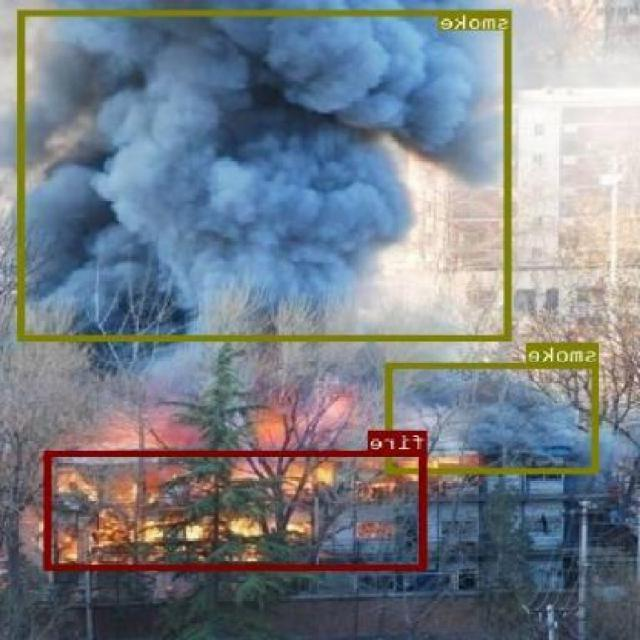Fire: (46, 449, 428, 569)
Smoke: (20, 9, 512, 340), (388, 362, 600, 472)
